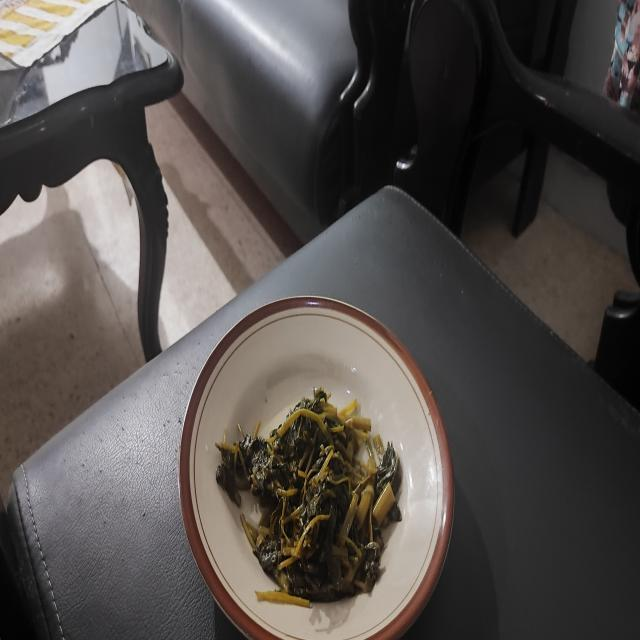tumis_kangkung: (216, 387, 402, 602)
